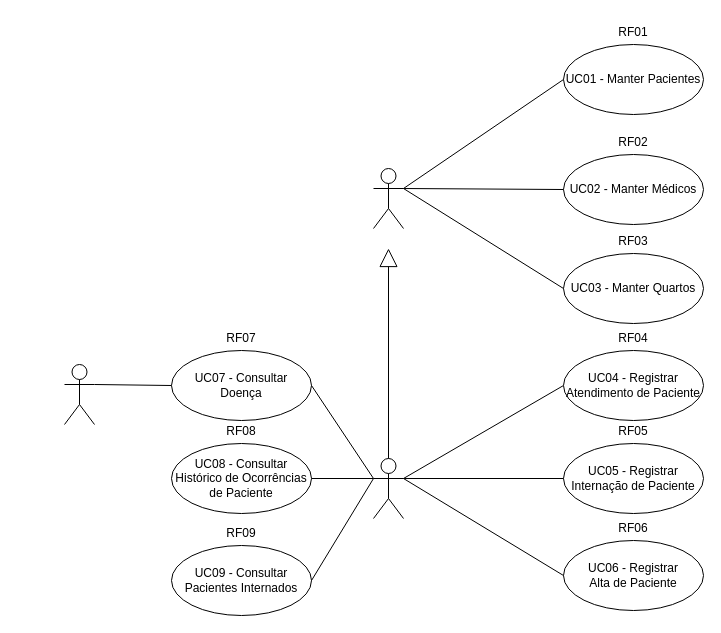
Image size: 721x633. Some labels were removed from this diagram. The shapes that lost their labels are listed below. From the top down, each one's centre as x and y in pixels, then its label:
At (388,198): "Recepcionista".
At (79,394): "Sistema externo CID10".
At (388,488): "Médico".
